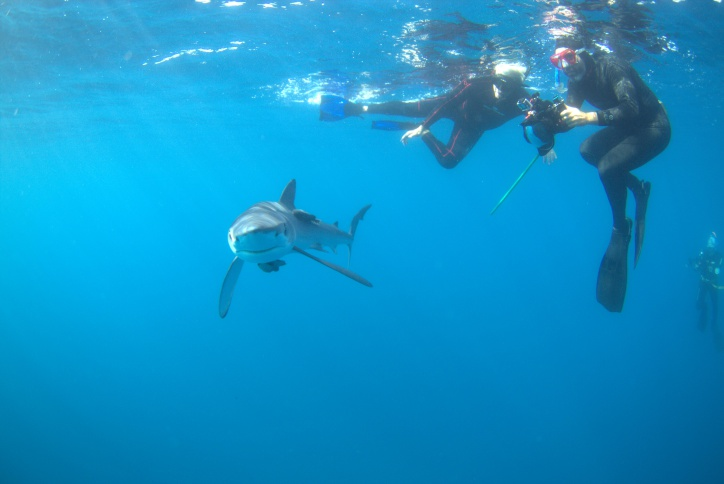Azul: (190, 164, 418, 333)
